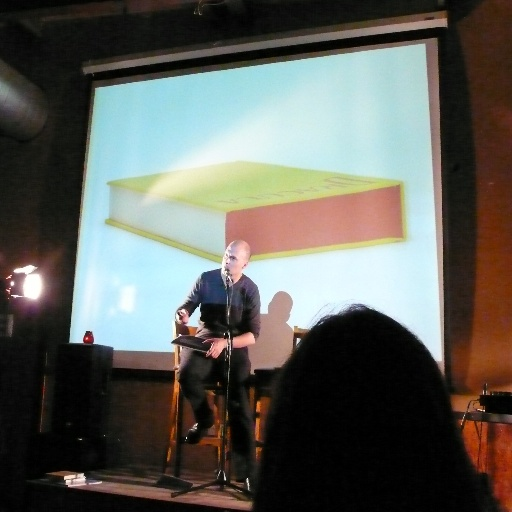hand: (201, 337, 225, 361), (178, 308, 190, 325)
